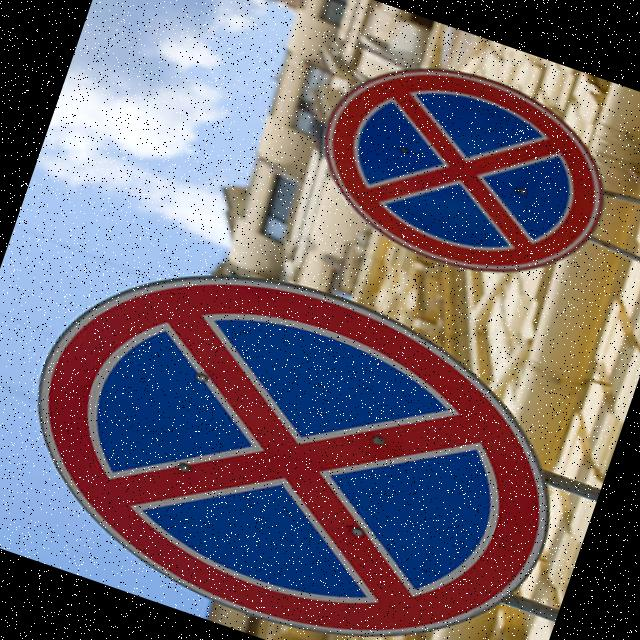no_parking: (0, 191, 637, 640), (268, 9, 640, 320)
